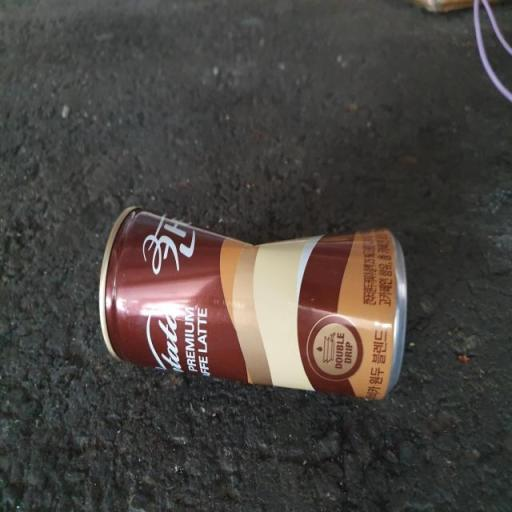metal: (76, 180, 426, 428)
